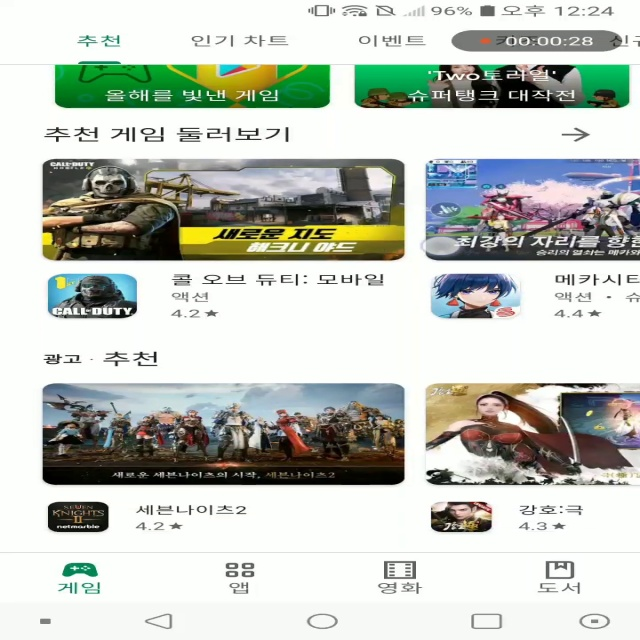Cursor: (422, 236, 466, 258)
